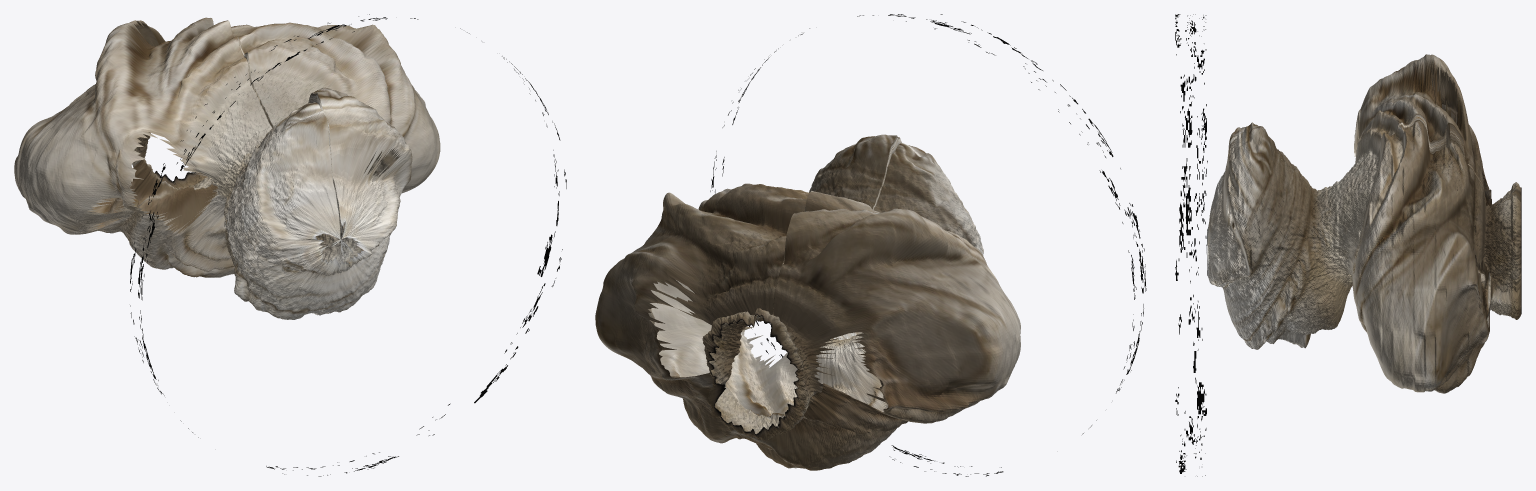
3 renders of one model, left to right at view 1: azimuth 30°, elevation 25°; view 2: azimuth 150°, elevation 25°; view 3: azimuth 270°, elevation 25°, orthographic. The views are drawn at different scales.
Visible parts, largest first — view 1: geometry_0; view 2: geometry_0; view 3: geometry_0.
Part boxes in pixels (x1,y1,x2,y2): geometry_0: [14, 14, 566, 476]; geometry_0: [595, 14, 1146, 476]; geometry_0: [1175, 14, 1521, 476].
Bounding box in the file's own units: 2 × 2 × 1.5.
1 material, 1 textured.
